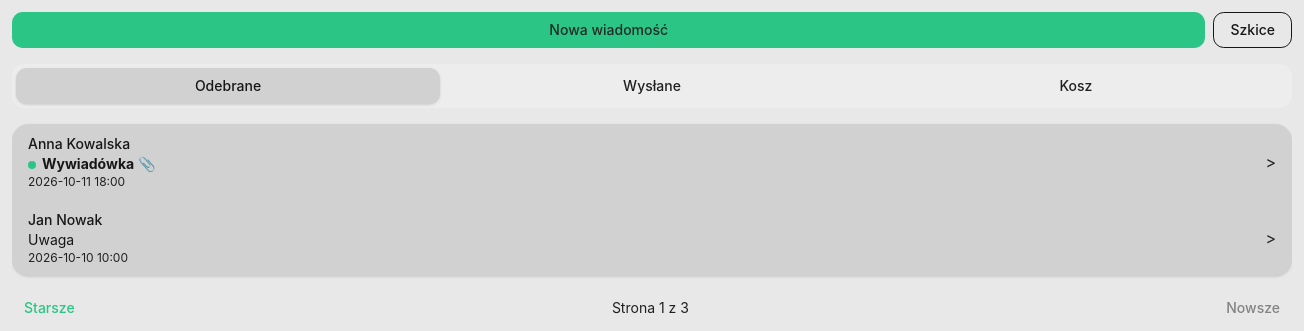
Scenario: MessagesScreen › switches to the outbox folder
The width and height of the screenshot is (1304, 331).
Expected: the text "Wywiadówka" is shown, [42,155,134,172]
Click the button "Wysłane" at (652, 86), box [440,68,864,104]
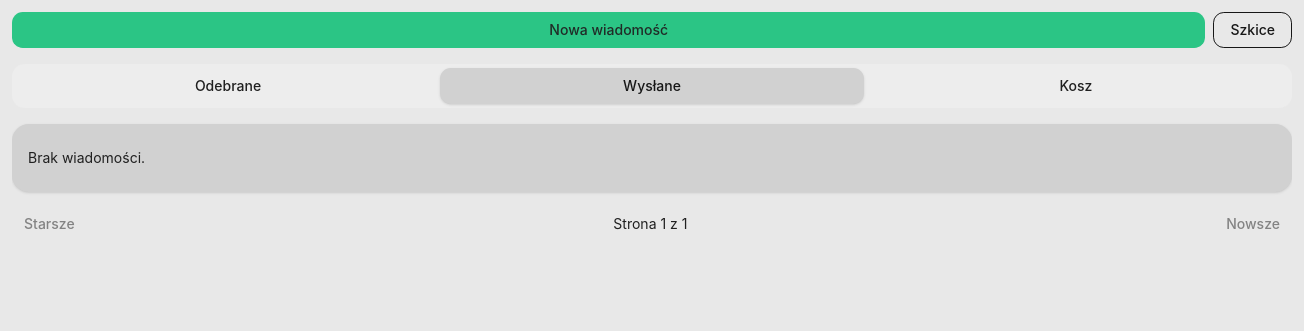
Expected: the text "Brak wiadomości." is shown, [28,149,145,166]
